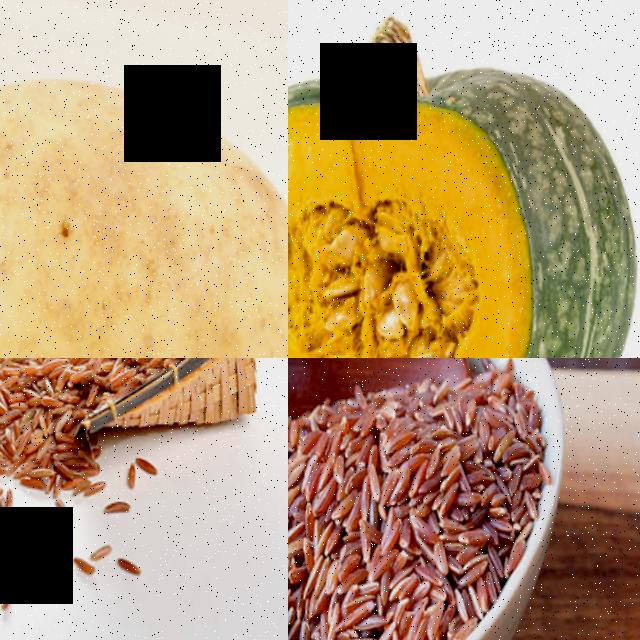potato: (0, 10, 288, 358)
pumpkin: (288, 0, 640, 358)
red rice: (288, 358, 573, 640), (0, 358, 105, 489)
